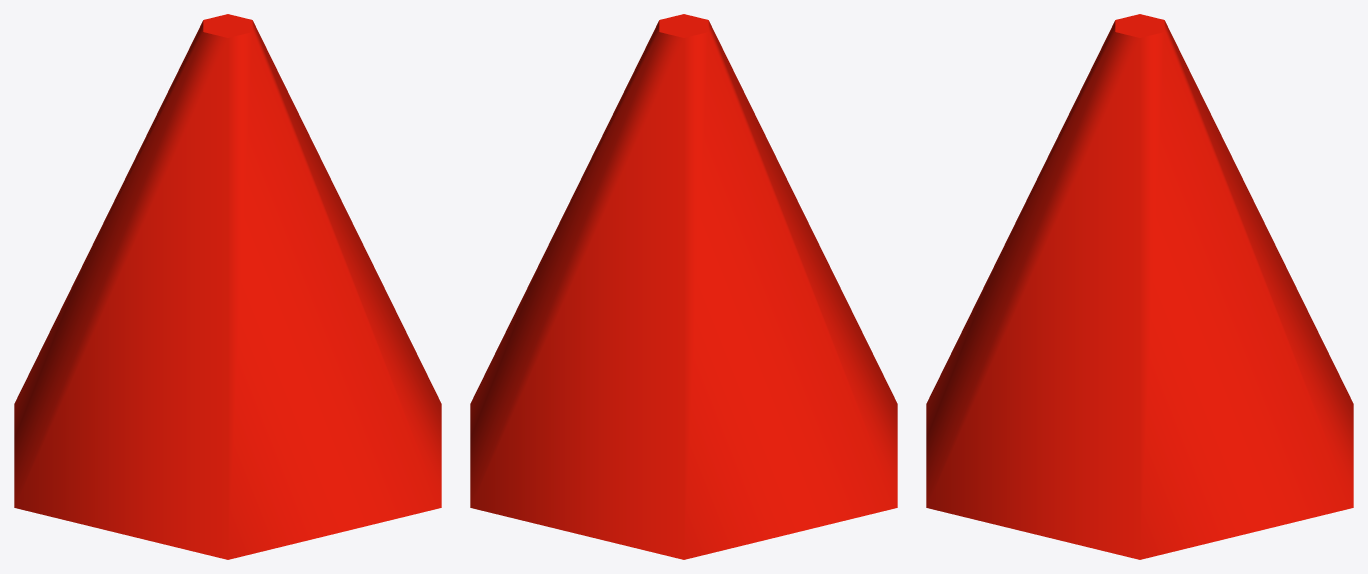
Rendered from Castle_Block_F.FBX.
3 views of the same model, side by side, from view 1: azimuth 30°, elevation 25°; view 2: azimuth 150°, elevation 25°; view 3: azimuth 270°, elevation 25° (orthographic).
Parts seen in each view (by area): view 1: Castle_Block_F; view 2: Castle_Block_F; view 3: Castle_Block_F.
Part boxes in pixels (x1,y1,x2,y2): Castle_Block_F: (14, 14, 441, 559); Castle_Block_F: (470, 14, 897, 559); Castle_Block_F: (926, 14, 1353, 559).
Bounding box in the file's own units: 26 × 25 × 22.52.
